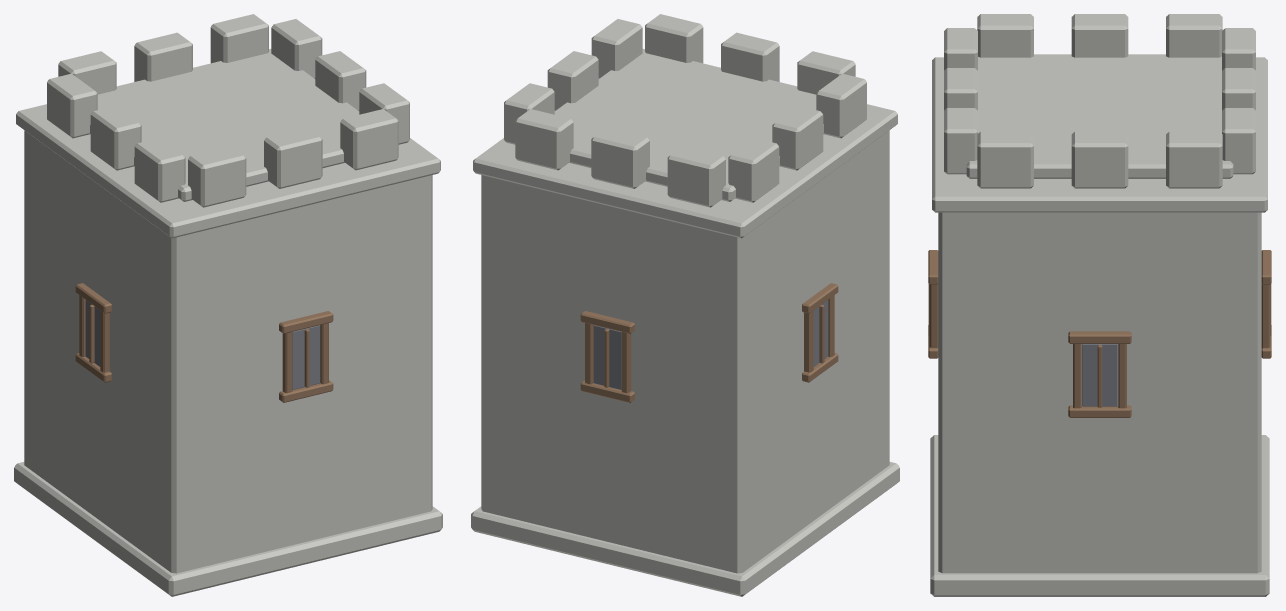
Rendered from wall-corner-tower.glb.
The picture shows the model from 3 angles, left to right: view 1: azimuth 30°, elevation 25°; view 2: azimuth 150°, elevation 25°; view 3: azimuth 270°, elevation 25°; orthographic projection. The views are drawn at different scales.
Visible parts, largest first — view 1: wall-corner-tower; view 2: wall-corner-tower; view 3: wall-corner-tower.
Boxes of the visible parts, x1,y1,x2,y2 form: wall-corner-tower: (14, 14, 442, 596); wall-corner-tower: (471, 14, 899, 596); wall-corner-tower: (928, 14, 1271, 596).
Bounding box in the file's own units: 4.25 × 6.12 × 4.25.
